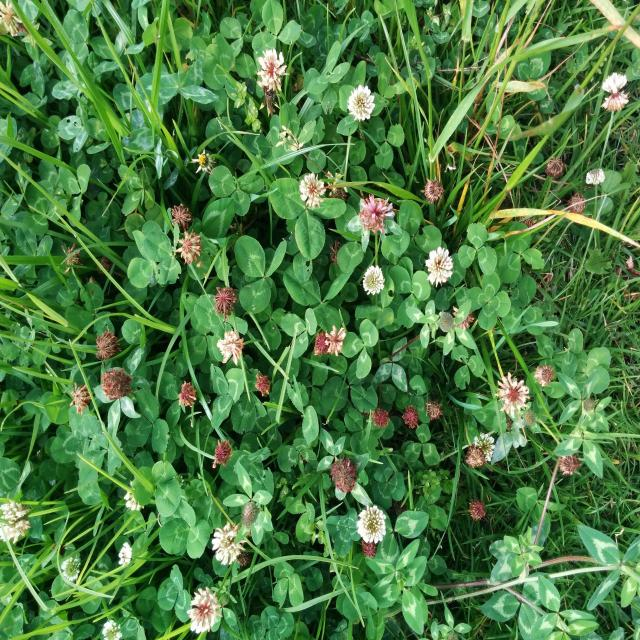Four Leaf Clover: (469, 271, 511, 331)
